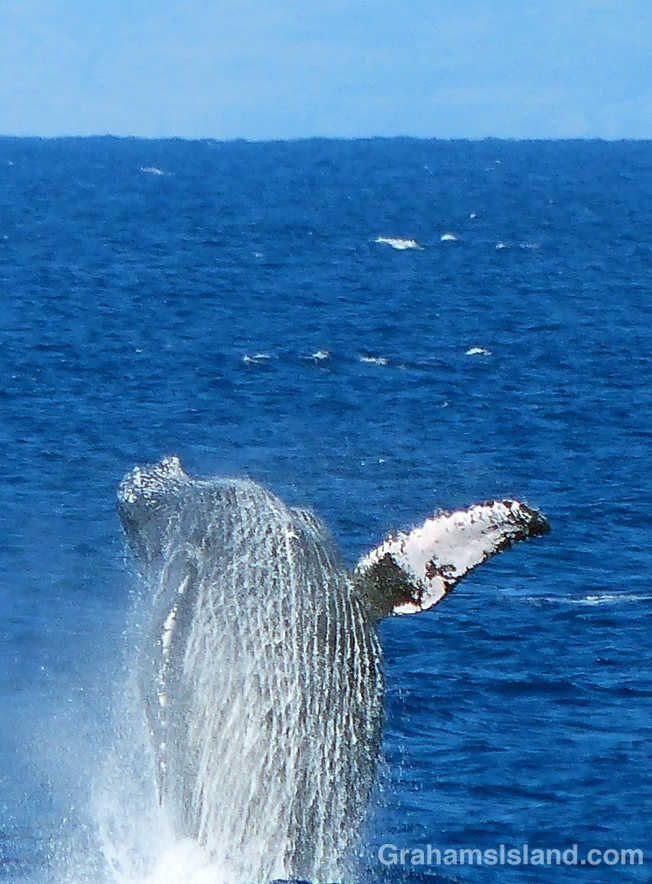humpback: (115, 458, 379, 874)
